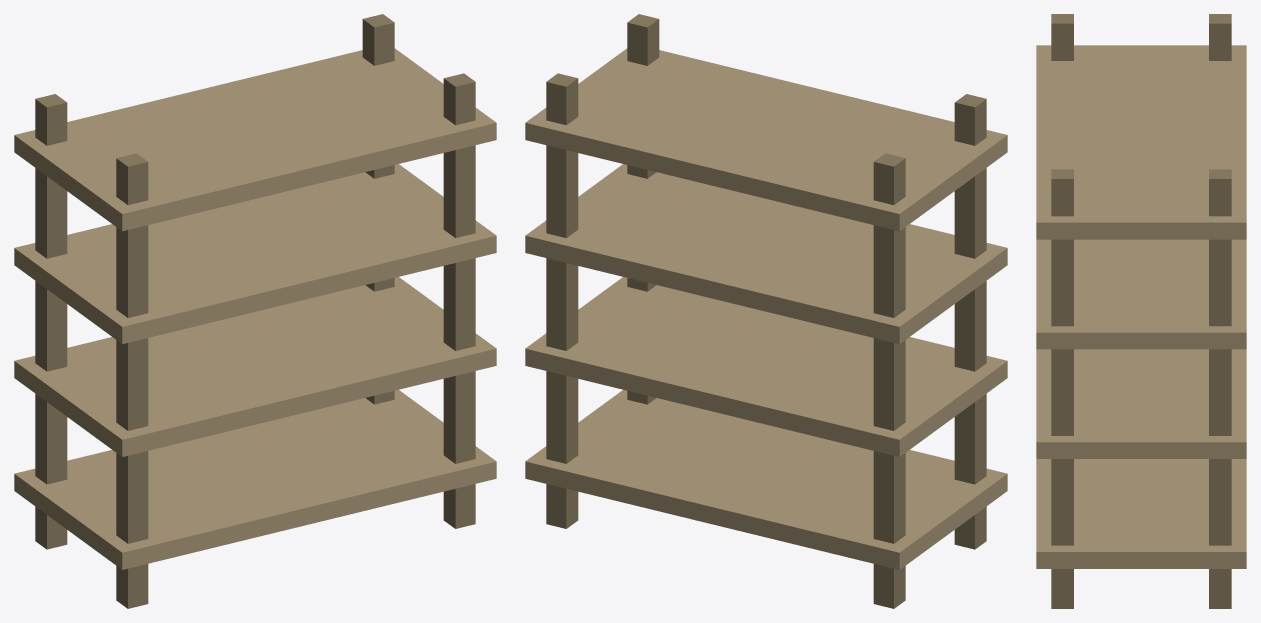
The model's file is BakerStall_Shelf2.fbx.
3 views of the same model, side by side, from view 1: azimuth 30°, elevation 25°; view 2: azimuth 150°, elevation 25°; view 3: azimuth 270°, elevation 25° (orthographic). The views are drawn at different scales.
Visible parts, largest first — view 1: BakerStall_Shelf2; view 2: BakerStall_Shelf2; view 3: BakerStall_Shelf2.
Part boxes in pixels (bbox=[...]): BakerStall_Shelf2: bbox=[14, 14, 496, 608]; BakerStall_Shelf2: bbox=[525, 14, 1007, 608]; BakerStall_Shelf2: bbox=[1036, 14, 1246, 608].
Bounding box in the file's own units: 16 × 18.06 × 8.
